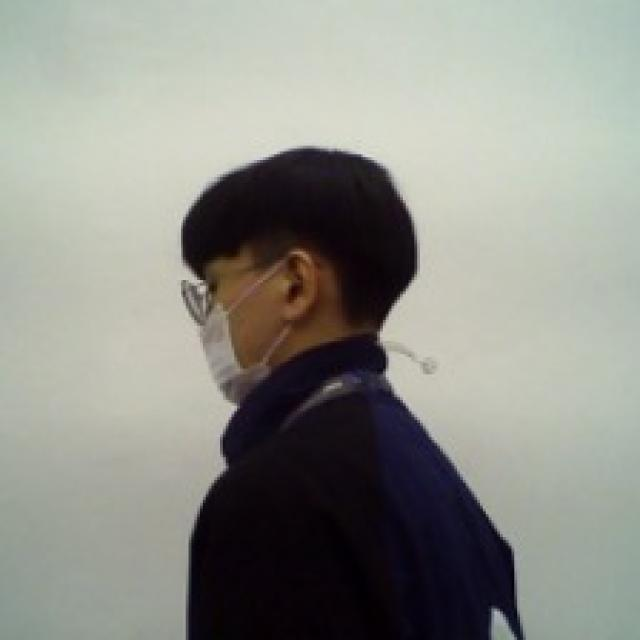mask: (176, 255, 310, 409)
no_gloves: (174, 144, 426, 322)
